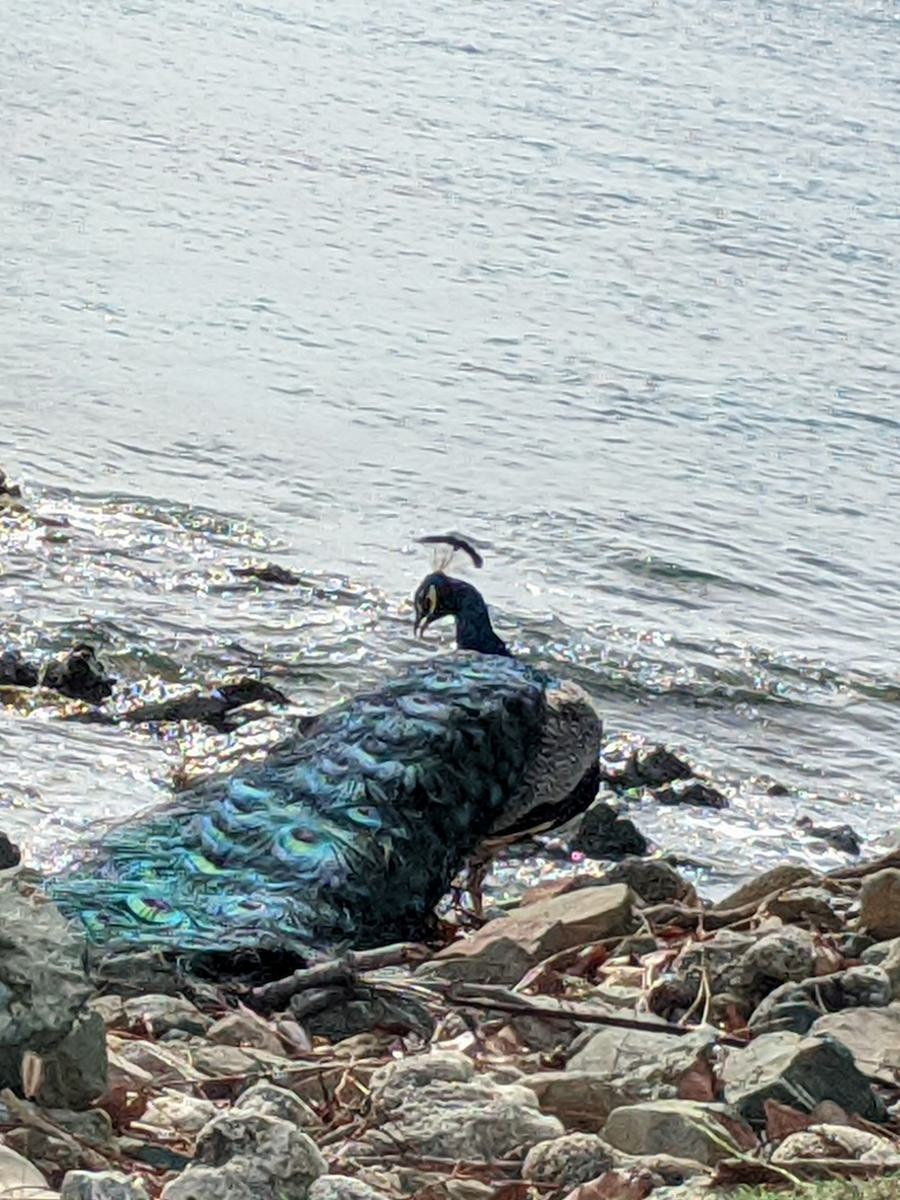peacock: (47, 508, 579, 1015)
